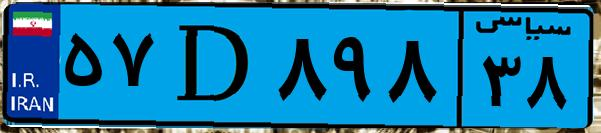3: (475, 38, 525, 113)
5: (57, 26, 110, 100)
7: (110, 28, 158, 98)
8: (270, 28, 330, 110), (385, 28, 445, 110), (525, 38, 570, 115)
9: (330, 28, 385, 110)
D: (158, 12, 270, 120)
